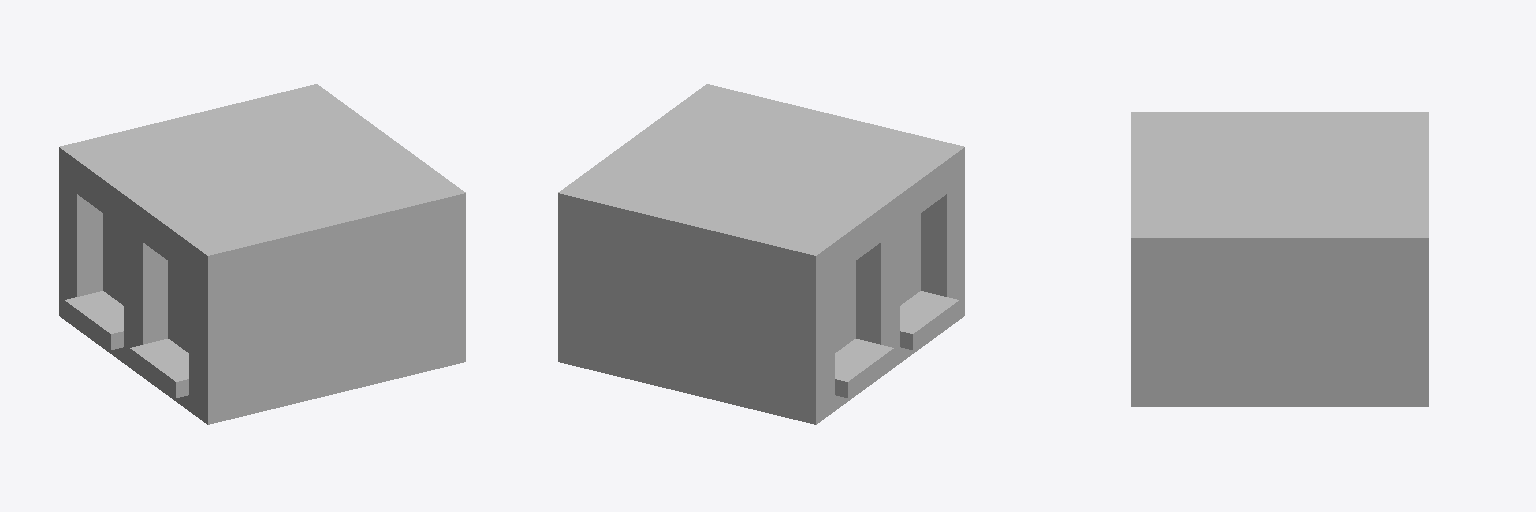
3 renders of one model, left to right at view 1: azimuth 30°, elevation 25°; view 2: azimuth 150°, elevation 25°; view 3: azimuth 270°, elevation 25°, orthographic.
Visible parts, largest first — view 1: G-__555861_G-__555861_Brick, G-__555861_G-__555861_Glass; view 2: G-__555861_G-__555861_Brick, G-__555861_G-__555861_Glass; view 3: G-__555861_G-__555861_Brick.
Part boxes in pixels (x1,y1,x2,y2): G-__555861_G-__555861_Brick: (59,84,465,424); G-__555861_G-__555861_Glass: (103,213,188,352); G-__555861_G-__555861_Brick: (558,84,964,424); G-__555861_G-__555861_Glass: (835,213,920,352); G-__555861_G-__555861_Brick: (1131,112,1428,406).
Bounding box in the file's own units: 1.05 × 0.625 × 1.